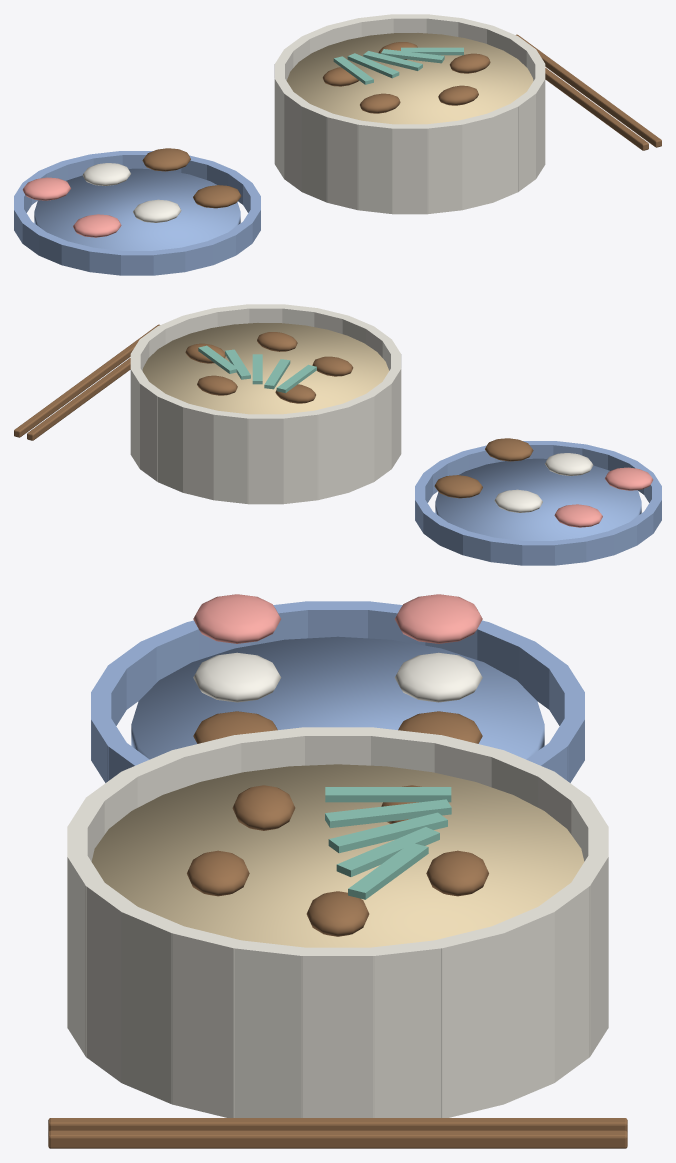
The model's file is AbaloneJukSeafood_blockout.glb.
3 renders of one model, top to bottom at view 1: azimuth 30°, elevation 25°; view 2: azimuth 150°, elevation 25°; view 3: azimuth 270°, elevation 25°, orthographic. The views are drawn at different scales.
Visible parts, largest first — view 1: FOOD06_AbaloneJukSeafood_Broth_L0, FOOD06_AbaloneJukSeafood_SeafoodPlateBase_L0, FOOD06_AbaloneJukSeafood_BowlRim16_L0, FOOD06_AbaloneJukSeafood_BowlRim17_L0, FOOD06_AbaloneJukSeafood_BowlRim15_L0, FOOD06_AbaloneJukSeafood_BowlRim14_L0, FOOD06_AbaloneJukSeafood_BowlRim18_L0, FOOD06_AbaloneJukSeafood_BowlRim13_L0, FOOD06_AbaloneJukSeafood_BowlRim19_L0, FOOD06_AbaloneJukSeafood_BowlRim12_L0, FOOD06_AbaloneJukSeafood_BowlRim20_L0, FOOD06_AbaloneJukSeafood_Chopstick1_L0 (+40 smaller); view 2: FOOD06_AbaloneJukSeafood_Broth_L0, FOOD06_AbaloneJukSeafood_SeafoodPlateBase_L0, FOOD06_AbaloneJukSeafood_BowlRim8_L0, FOOD06_AbaloneJukSeafood_BowlRim7_L0, FOOD06_AbaloneJukSeafood_BowlRim9_L0, FOOD06_AbaloneJukSeafood_BowlRim10_L0, FOOD06_AbaloneJukSeafood_BowlRim6_L0, FOOD06_AbaloneJukSeafood_BowlRim11_L0, FOOD06_AbaloneJukSeafood_BowlRim5_L0, FOOD06_AbaloneJukSeafood_BowlRim12_L0, FOOD06_AbaloneJukSeafood_BowlRim4_L0, FOOD06_AbaloneJukSeafood_Chopstick1_L0 (+38 smaller); view 3: FOOD06_AbaloneJukSeafood_Broth_L0, FOOD06_AbaloneJukSeafood_SeafoodPlateBase_L0, FOOD06_AbaloneJukSeafood_BowlRim0_L0, FOOD06_AbaloneJukSeafood_BowlRim1_L0, FOOD06_AbaloneJukSeafood_BowlRim23_L0, FOOD06_AbaloneJukSeafood_BowlRim22_L0, FOOD06_AbaloneJukSeafood_BowlRim2_L0, FOOD06_AbaloneJukSeafood_Chopstick1_L0, FOOD06_AbaloneJukSeafood_BowlRim3_L0, FOOD06_AbaloneJukSeafood_BowlRim21_L0, FOOD06_AbaloneJukSeafood_Chopstick0_L0, FOOD06_AbaloneJukSeafood_BowlRim4_L0 (+44 smaller).
Part boxes in pixels (x1,y1,x2,y2): FOOD06_AbaloneJukSeafood_Broth_L0: [286, 33, 533, 124]; FOOD06_AbaloneJukSeafood_SeafoodPlateBase_L0: [34, 168, 240, 250]; FOOD06_AbaloneJukSeafood_BowlRim16_L0: [392, 124, 428, 214]; FOOD06_AbaloneJukSeafood_BowlRim17_L0: [426, 121, 462, 213]; FOOD06_AbaloneJukSeafood_BowlRim15_L0: [357, 121, 394, 213]; FOOD06_AbaloneJukSeafood_BowlRim14_L0: [326, 114, 362, 209]; FOOD06_AbaloneJukSeafood_BowlRim18_L0: [457, 113, 492, 210]; FOOD06_AbaloneJukSeafood_BowlRim13_L0: [301, 103, 333, 202]; FOOD06_AbaloneJukSeafood_BowlRim19_L0: [488, 103, 518, 202]; FOOD06_AbaloneJukSeafood_BowlRim12_L0: [284, 91, 310, 191]; FOOD06_AbaloneJukSeafood_BowlRim20_L0: [511, 92, 535, 191]; FOOD06_AbaloneJukSeafood_Chopstick1_L0: [516, 34, 661, 147]; FOOD06_AbaloneJukSeafood_Broth_L0: [142, 323, 389, 414]; FOOD06_AbaloneJukSeafood_SeafoodPlateBase_L0: [435, 458, 641, 540]; FOOD06_AbaloneJukSeafood_BowlRim8_L0: [247, 414, 283, 504]; FOOD06_AbaloneJukSeafood_BowlRim7_L0: [213, 411, 249, 503]; FOOD06_AbaloneJukSeafood_BowlRim9_L0: [282, 411, 318, 503]; FOOD06_AbaloneJukSeafood_BowlRim10_L0: [313, 404, 349, 499]; FOOD06_AbaloneJukSeafood_BowlRim6_L0: [183, 404, 218, 500]; FOOD06_AbaloneJukSeafood_BowlRim11_L0: [342, 393, 374, 492]; FOOD06_AbaloneJukSeafood_BowlRim5_L0: [157, 394, 189, 492]; FOOD06_AbaloneJukSeafood_BowlRim12_L0: [366, 381, 391, 481]; FOOD06_AbaloneJukSeafood_BowlRim4_L0: [140, 382, 165, 481]; FOOD06_AbaloneJukSeafood_Chopstick1_L0: [14, 324, 159, 437]; FOOD06_AbaloneJukSeafood_Broth_L0: [91, 764, 584, 947]; FOOD06_AbaloneJukSeafood_SeafoodPlateBase_L0: [131, 636, 544, 759]; FOOD06_AbaloneJukSeafood_BowlRim0_L0: [301, 947, 374, 1117]; FOOD06_AbaloneJukSeafood_BowlRim1_L0: [369, 940, 442, 1117]; FOOD06_AbaloneJukSeafood_BowlRim23_L0: [233, 940, 306, 1117]; FOOD06_AbaloneJukSeafood_BowlRim22_L0: [171, 926, 241, 1117]; FOOD06_AbaloneJukSeafood_BowlRim2_L0: [435, 926, 504, 1117]; FOOD06_AbaloneJukSeafood_Chopstick1_L0: [48, 1130, 627, 1148]; FOOD06_AbaloneJukSeafood_BowlRim3_L0: [490, 906, 554, 1104]; FOOD06_AbaloneJukSeafood_BowlRim21_L0: [121, 906, 185, 1104]; FOOD06_AbaloneJukSeafood_Chopstick0_L0: [48, 1118, 627, 1132]; FOOD06_AbaloneJukSeafood_BowlRim4_L0: [537, 881, 590, 1082].
Bounding box in the file's own units: 0.513 × 0.0785 × 0.23.
